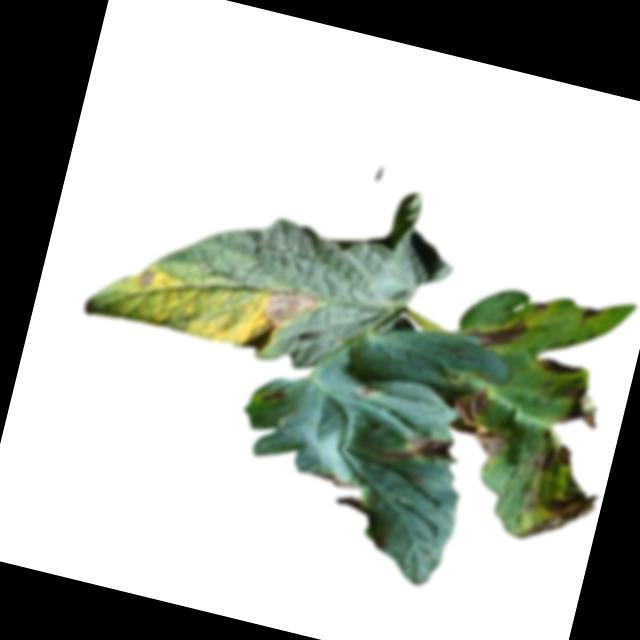Early_blight: (518, 468, 603, 558), (446, 380, 518, 460), (377, 422, 458, 477), (259, 279, 318, 332), (470, 308, 531, 353), (523, 431, 574, 479), (560, 380, 606, 431), (536, 351, 586, 380), (260, 381, 290, 407), (579, 299, 603, 325), (136, 265, 160, 290), (531, 297, 547, 313)
